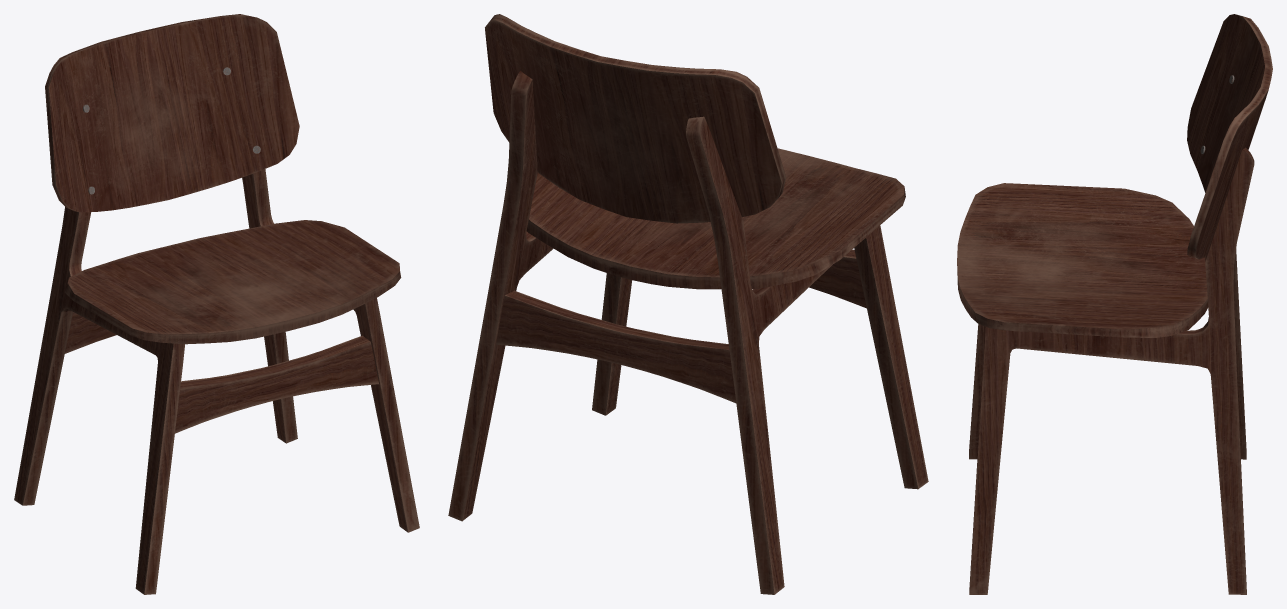
3 views of the same model, side by side, from view 1: azimuth 30°, elevation 25°; view 2: azimuth 150°, elevation 25°; view 3: azimuth 270°, elevation 25° (orthographic). The views are drawn at different scales.
Visible parts, largest first — view 1: Plane_Low, Seat_Low, Leg _Low, Brige_low; view 2: Leg _Low, Plane_Low, Seat_Low, Brige_low; view 3: Seat_Low, Leg _Low, Plane_Low.
Part boxes in pixels (x1,y1,x2,y2): Plane_Low: (45, 14, 299, 212); Seat_Low: (64, 220, 401, 344); Leg _Low: (14, 169, 419, 594); Brige_low: (65, 312, 378, 433); Leg _Low: (448, 71, 928, 594); Plane_Low: (485, 14, 786, 223); Seat_Low: (526, 148, 905, 289); Brige_low: (496, 249, 866, 403); Seat_Low: (957, 183, 1208, 337); Leg _Low: (969, 147, 1254, 594); Plane_Low: (1187, 14, 1272, 259).
Bounding box in the file's own units: 2.74 × 4.11 × 2.55.
2 materials, 2 textured.
